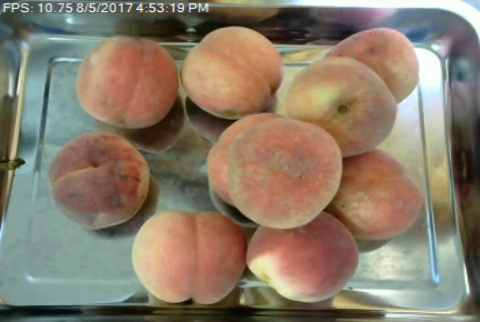Peach: (225, 120, 343, 231), (285, 55, 397, 156), (133, 209, 248, 306), (49, 129, 154, 228), (245, 212, 358, 300), (181, 25, 283, 118), (78, 36, 181, 127), (331, 148, 424, 238), (322, 26, 419, 103)
